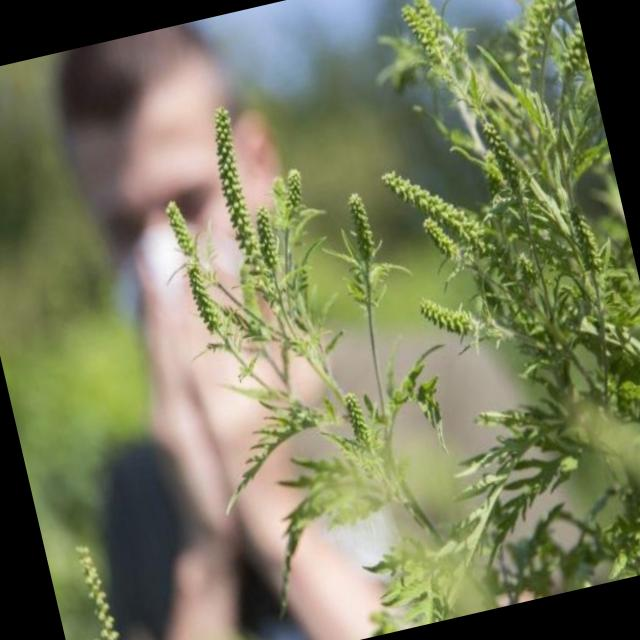ambrosia: (472, 79, 640, 419), (186, 84, 334, 308), (369, 137, 516, 360), (367, 0, 589, 110), (140, 185, 230, 353), (46, 506, 145, 640), (330, 368, 418, 511)
